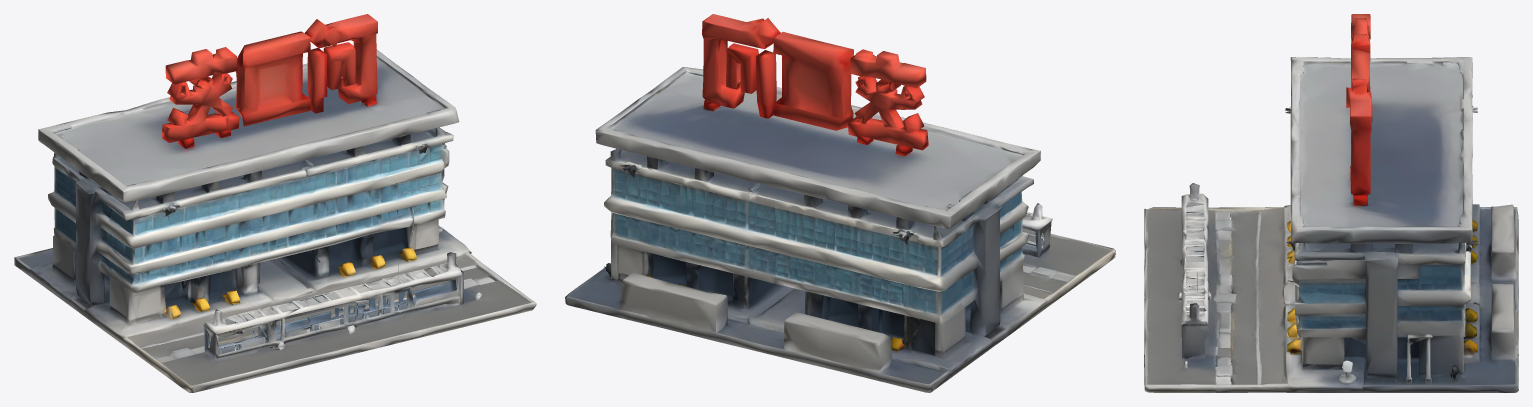
File: luohu.glb
3 views of the same model, side by side, from view 1: azimuth 30°, elevation 25°; view 2: azimuth 150°, elevation 25°; view 3: azimuth 270°, elevation 25° (orthographic). The views are drawn at different scales.
Visible parts, largest first — view 1: tripo_node_15b9bd96-0fcd-43c6-a2f2-8702b5227eae; view 2: tripo_node_15b9bd96-0fcd-43c6-a2f2-8702b5227eae; view 3: tripo_node_15b9bd96-0fcd-43c6-a2f2-8702b5227eae.
Boxes of the visible parts, x1,y1,x2,y2 form: tripo_node_15b9bd96-0fcd-43c6-a2f2-8702b5227eae: (14,14,536,392); tripo_node_15b9bd96-0fcd-43c6-a2f2-8702b5227eae: (565,14,1115,392); tripo_node_15b9bd96-0fcd-43c6-a2f2-8702b5227eae: (1144,14,1518,392).
Size of the model in its own units: 1 by 0.6576 by 0.8724.
Materials: 1 (1 with a texture image).
